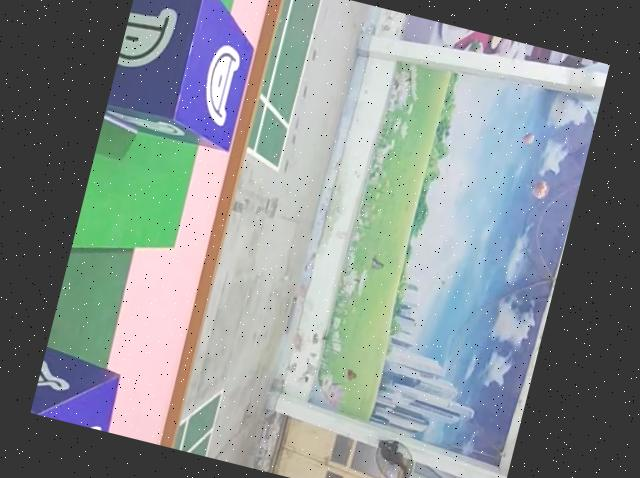R2 Real Blue: (102, 0, 266, 154), (30, 348, 125, 433)
